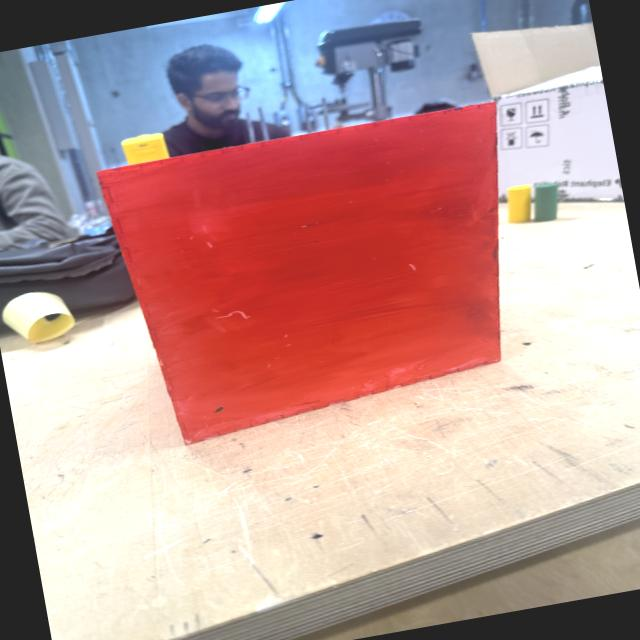red_bin: (94, 99, 547, 455)
